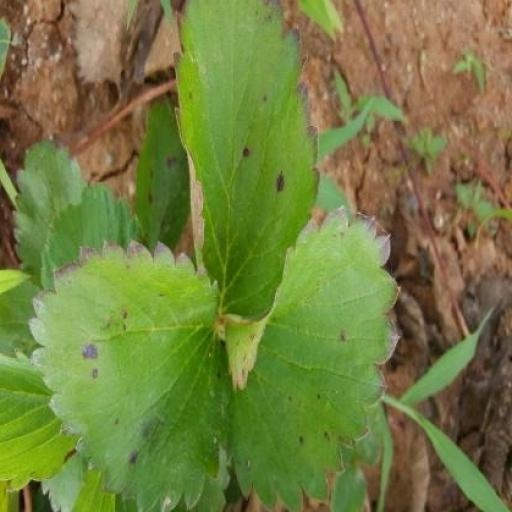Leaf Spot: (279, 0, 486, 274), (110, 0, 293, 307), (189, 184, 339, 511), (424, 225, 500, 373), (321, 257, 376, 420)
